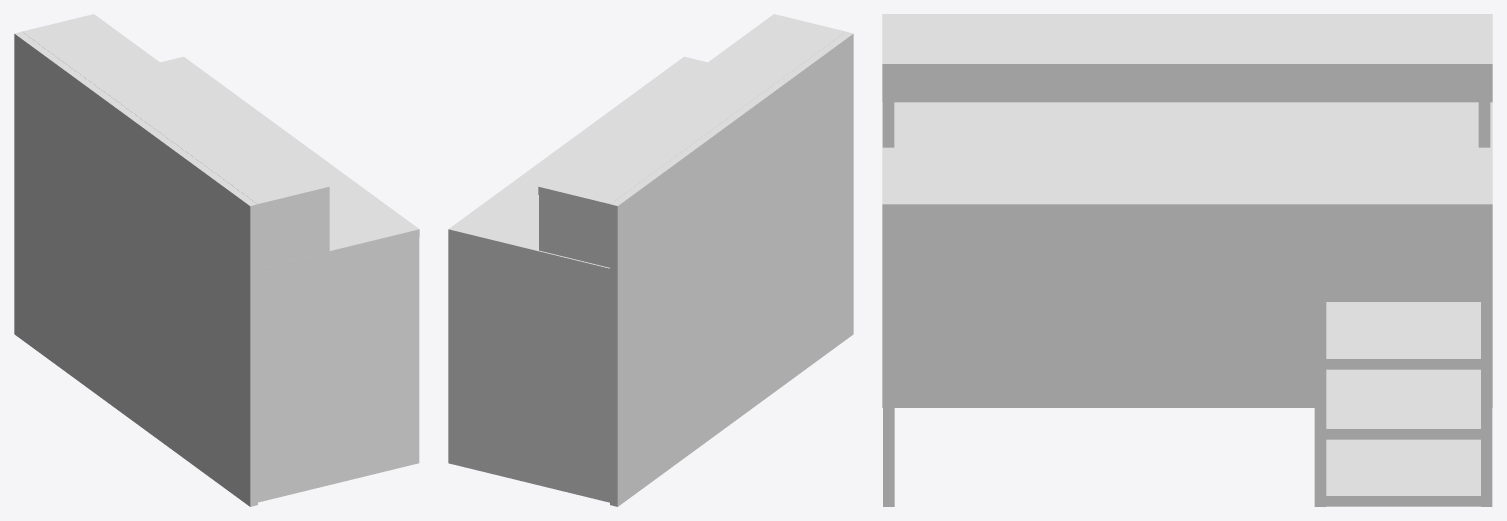
File: wetbiurko.glb
3 renders of one model, left to right at view 1: azimuth 30°, elevation 25°; view 2: azimuth 150°, elevation 25°; view 3: azimuth 270°, elevation 25°, orthographic. The views are drawn at different scales.
Visible parts, largest first — view 1: Cube.008, Cube.001, Cube.009, Cube, Cube.011; view 2: Cube.008, Cube.002, Cube.009, Cube, Cube.010; view 3: Cube.008, Cube, Cube.009, Cube.007, Cube.006, Cube.004, Cube.005, Cube.003, Cube.001, Cube.002, Cube.011, Cube.010.
Part boxes in pixels (left/top/right/bottom): Cube.008: left=14, top=31, right=257, bottom=506; Cube.001: left=258, top=237, right=419, bottom=502; Cube.009: left=22, top=14, right=329, bottom=212; Cube: left=160, top=56, right=419, bottom=277; Cube.011: left=258, top=195, right=329, bottom=268; Cube.008: left=610, top=31, right=853, bottom=506; Cube.002: left=448, top=237, right=609, bottom=502; Cube.009: left=538, top=14, right=845, bottom=212; Cube: left=448, top=56, right=707, bottom=277; Cube.010: left=539, top=195, right=609, bottom=267; Cube.008: left=882, top=14, right=1492, bottom=407; Cube: left=882, top=102, right=1492, bottom=214; Cube.009: left=882, top=18, right=1492, bottom=74; Cube.007: left=1326, top=214, right=1480, bottom=301; Cube.006: left=1326, top=369, right=1480, bottom=439; Cube.004: left=1326, top=302, right=1480, bottom=369; Cube.005: left=1326, top=439, right=1480, bottom=506; Cube.003: left=1314, top=214, right=1326, bottom=506; Cube.001: left=883, top=214, right=894, bottom=506; Cube.002: left=1481, top=214, right=1492, bottom=506; Cube.011: left=882, top=69, right=894, bottom=147; Cube.010: left=1478, top=69, right=1490, bottom=147.
Bounding box in the file's own units: 2.92 × 4.96 × 7.05.
12 materials, 12 textured.
